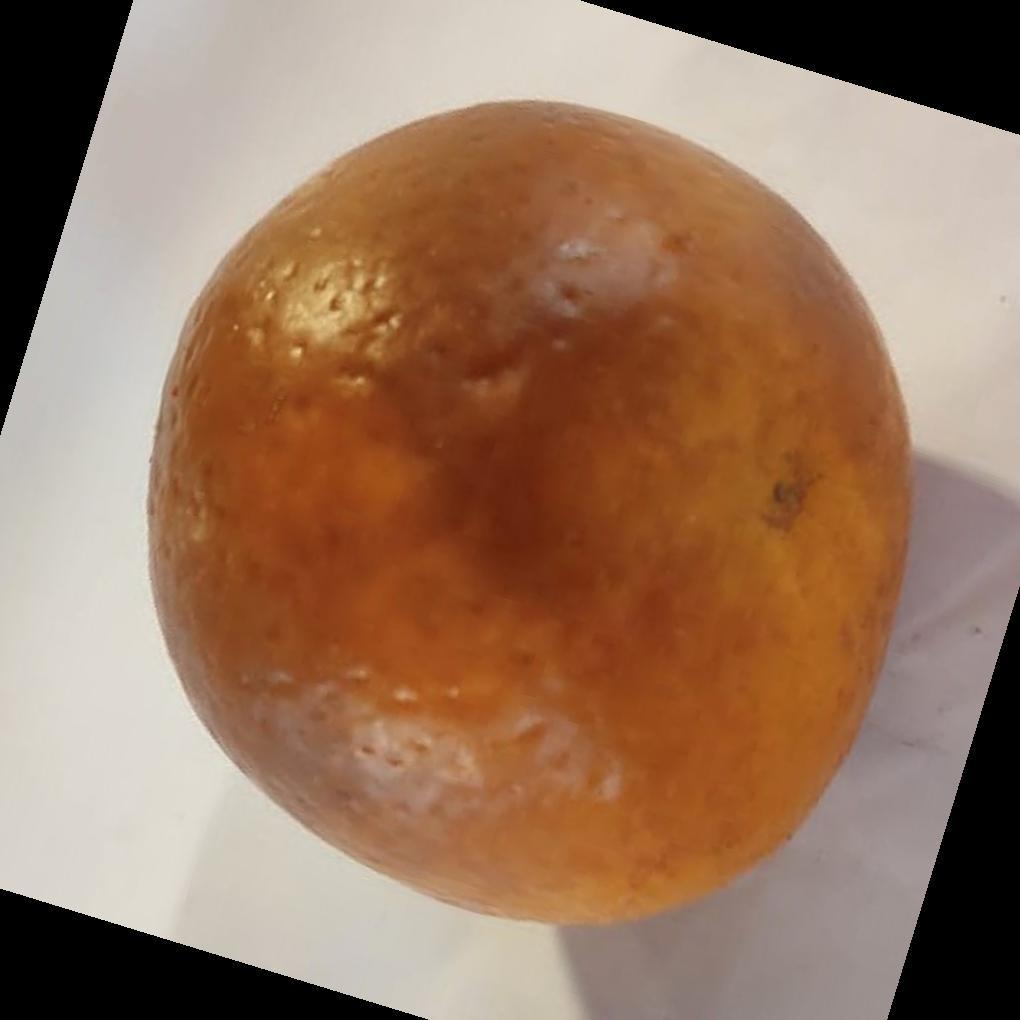FreshOrange: (144, 99, 915, 933)
